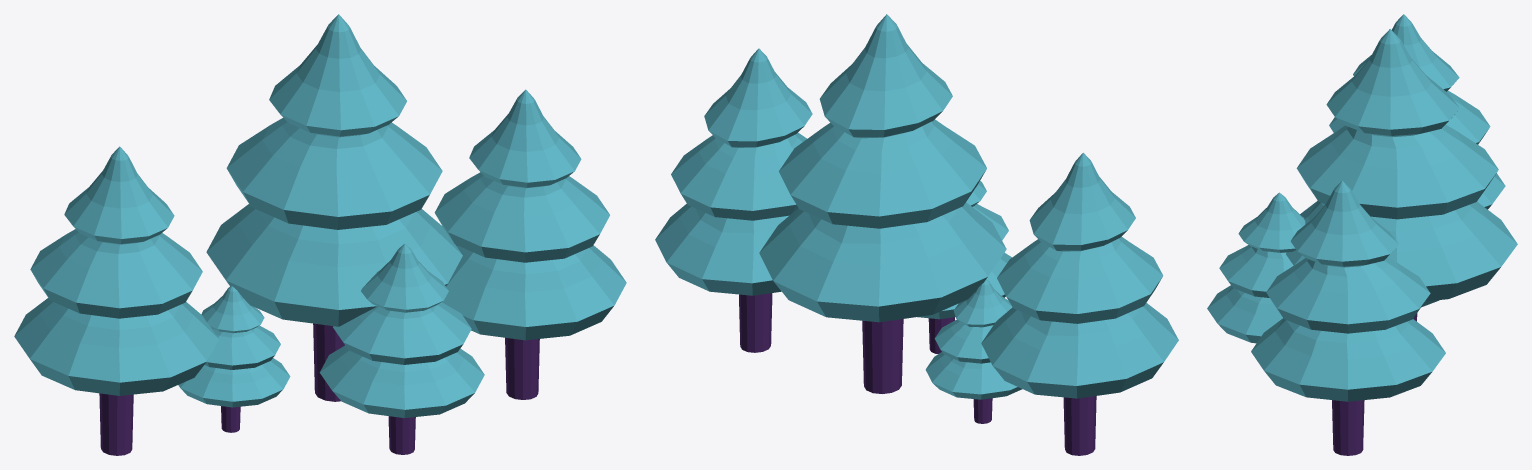
File: Asset_BlockForest_Trees_01.fbx
The picture shows the model from 3 angles, left to right: view 1: azimuth 30°, elevation 25°; view 2: azimuth 150°, elevation 25°; view 3: azimuth 270°, elevation 25°; orthographic projection. The views are drawn at different scales.
Parts seen in each view (by area): view 1: PolySurface_TreeForest_02, PolySurface_TreeForest_03, PolySurface_TreeForest_06, PolySurface_TreeForest_05, PolySurface_TreeForest_01; view 2: PolySurface_TreeForest_02, PolySurface_TreeForest_03, PolySurface_TreeForest_06, PolySurface_TreeForest_01, PolySurface_TreeForest_05; view 3: PolySurface_TreeForest_02, PolySurface_TreeForest_06, PolySurface_TreeForest_05, PolySurface_TreeForest_03.
Boxes of the visible parts, <box> form: PolySurface_TreeForest_02: <box>206,14,462,401</box>; PolySurface_TreeForest_03: <box>14,146,218,455</box>; PolySurface_TreeForest_06: <box>434,89,626,399</box>; PolySurface_TreeForest_05: <box>319,244,484,454</box>; PolySurface_TreeForest_01: <box>178,286,290,432</box>; PolySurface_TreeForest_02: <box>759,14,1006,393</box>; PolySurface_TreeForest_03: <box>981,152,1178,455</box>; PolySurface_TreeForest_06: <box>655,48,812,352</box>; PolySurface_TreeForest_01: <box>925,279,1022,423</box>; PolySurface_TreeForest_05: <box>917,181,1011,353</box>; PolySurface_TreeForest_02: <box>1286,29,1517,321</box>; PolySurface_TreeForest_06: <box>1251,180,1445,455</box>; PolySurface_TreeForest_05: <box>1207,192,1305,343</box>; PolySurface_TreeForest_03: <box>1329,14,1505,209</box>.
Bounding box in the file's own units: 159 × 112 × 89.22.
